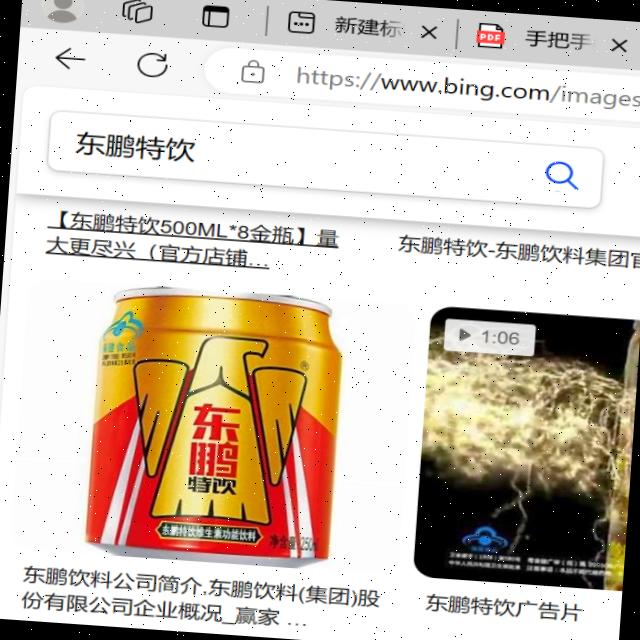dongpeng_special: (126, 327, 306, 534)
